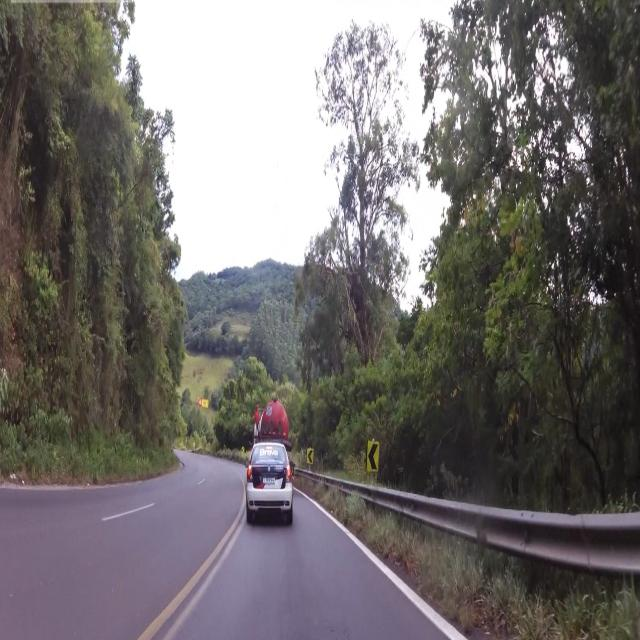Del: (363, 434, 382, 476)
